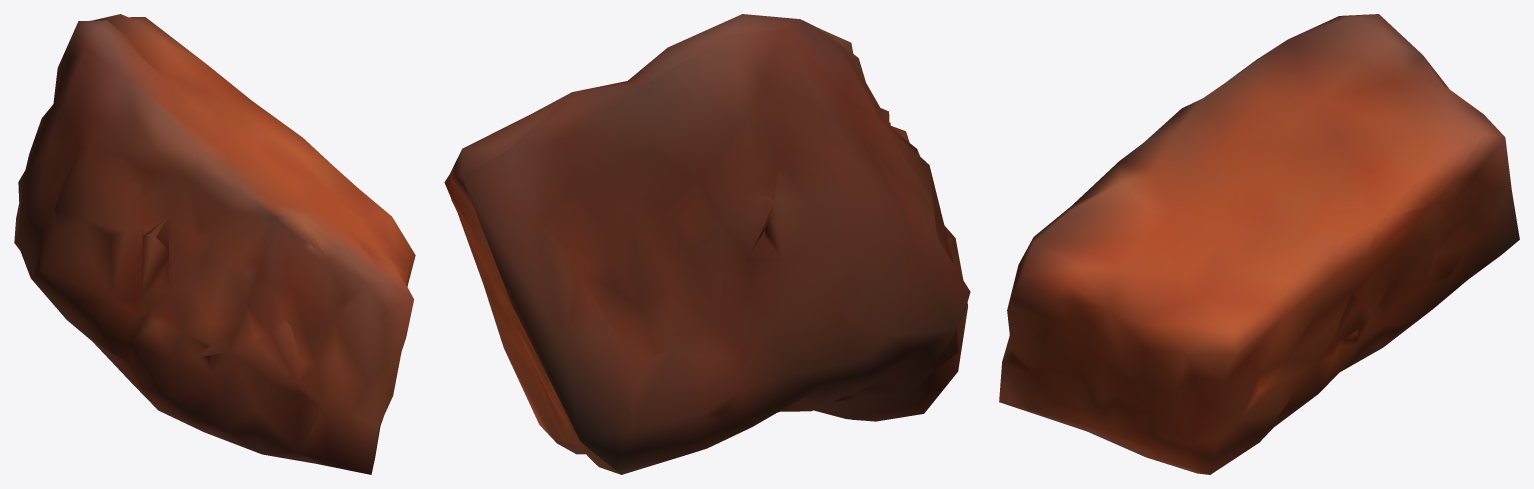
File: clay_brick.glb
The picture shows the model from 3 angles, left to right: view 1: azimuth 30°, elevation 25°; view 2: azimuth 150°, elevation 25°; view 3: azimuth 270°, elevation 25°; orthographic projection. The views are drawn at different scales.
Visible parts, largest first — view 1: model; view 2: model; view 3: model.
Boxes of the visible parts, bbox=[...] form: model: bbox=[14, 14, 415, 474]; model: bbox=[444, 14, 970, 474]; model: bbox=[999, 14, 1519, 474].
Size of the model in its own units: 0.3045 by 0.3106 by 0.3975.
1 material, 1 textured.
